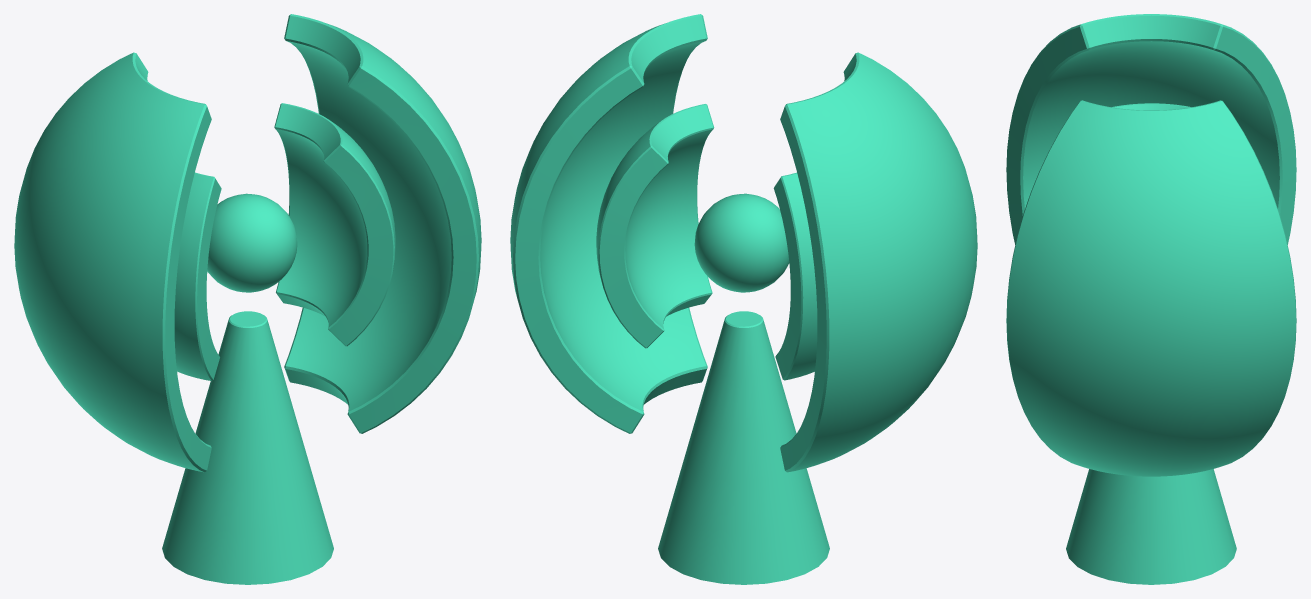
File: TimelineElement_HotPointStart.dae
3 views of the same model, side by side, from view 1: azimuth 30°, elevation 25°; view 2: azimuth 150°, elevation 25°; view 3: azimuth 270°, elevation 25° (orthographic).
Visible parts, largest first — view 1: hotpoint_2x; view 2: hotpoint_2x; view 3: hotpoint_2x.
Part boxes in pixels (box(x1,y1,x2,y2)): hotpoint_2x: box(14, 14, 481, 584); hotpoint_2x: box(510, 14, 977, 584); hotpoint_2x: box(1006, 14, 1296, 584).
Bounding box in the file's own units: 0.6806 × 0.4251 × 0.7862.
